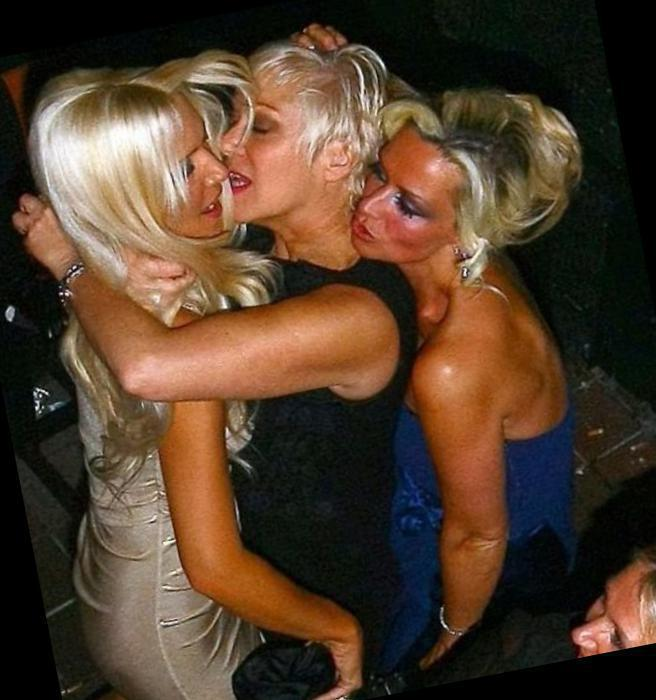Drunk: (345, 137, 462, 261), (218, 96, 322, 225)
